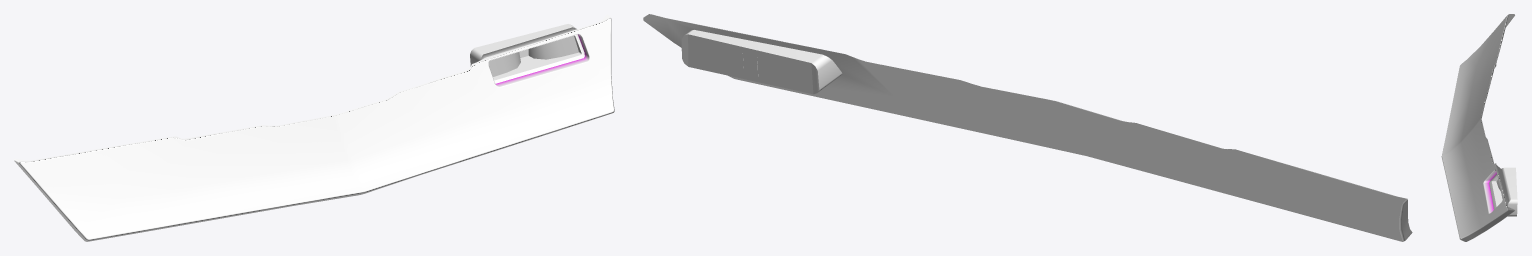
The model's file is Car_Buick_GrandNational_1987_Splitter_SetE.fbx.
3 renders of one model, left to right at view 1: azimuth 30°, elevation 25°; view 2: azimuth 150°, elevation 25°; view 3: azimuth 270°, elevation 25°, orthographic. The views are drawn at different scales.
Parts seen in each view (by area): view 1: Splitter 6; view 2: Splitter 6; view 3: Splitter 6.
Part boxes in pixels (<box>): Splitter 6: <box>14,14,614,241</box>; Splitter 6: <box>643,14,1412,241</box>; Splitter 6: <box>1441,14,1517,241</box>.
Bounding box in the file's own units: 1.62 × 0.1887 × 0.2661.
